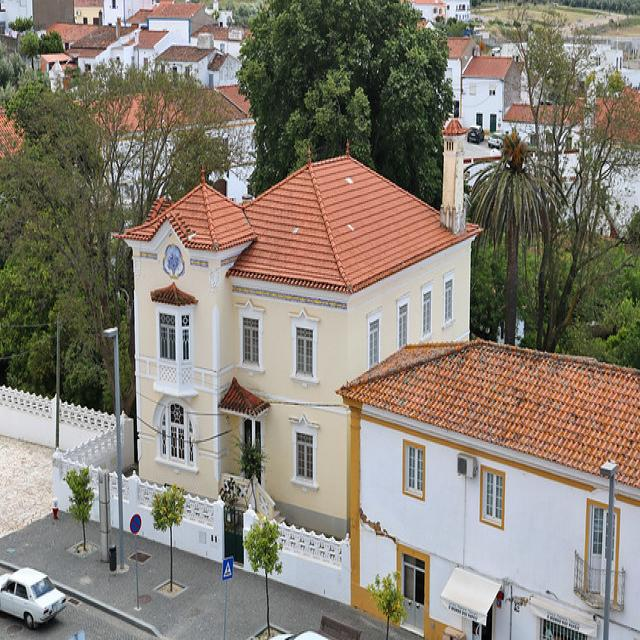Normal_building: (114, 144, 474, 613), (331, 333, 640, 634)
